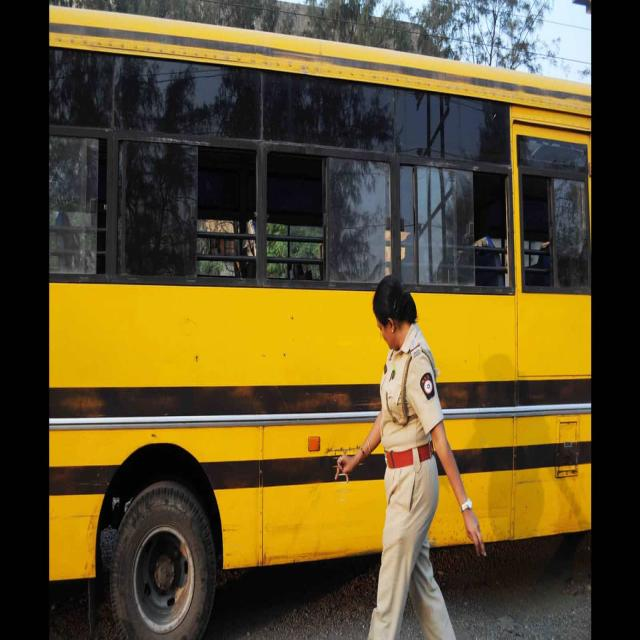bus: (50, 7, 590, 638)
